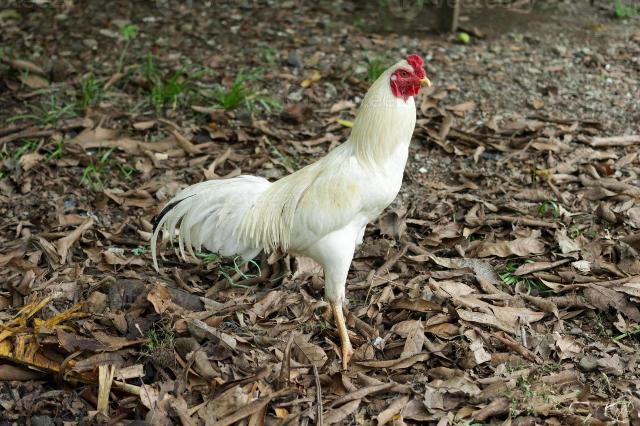Chicken: (152, 53, 433, 372)
